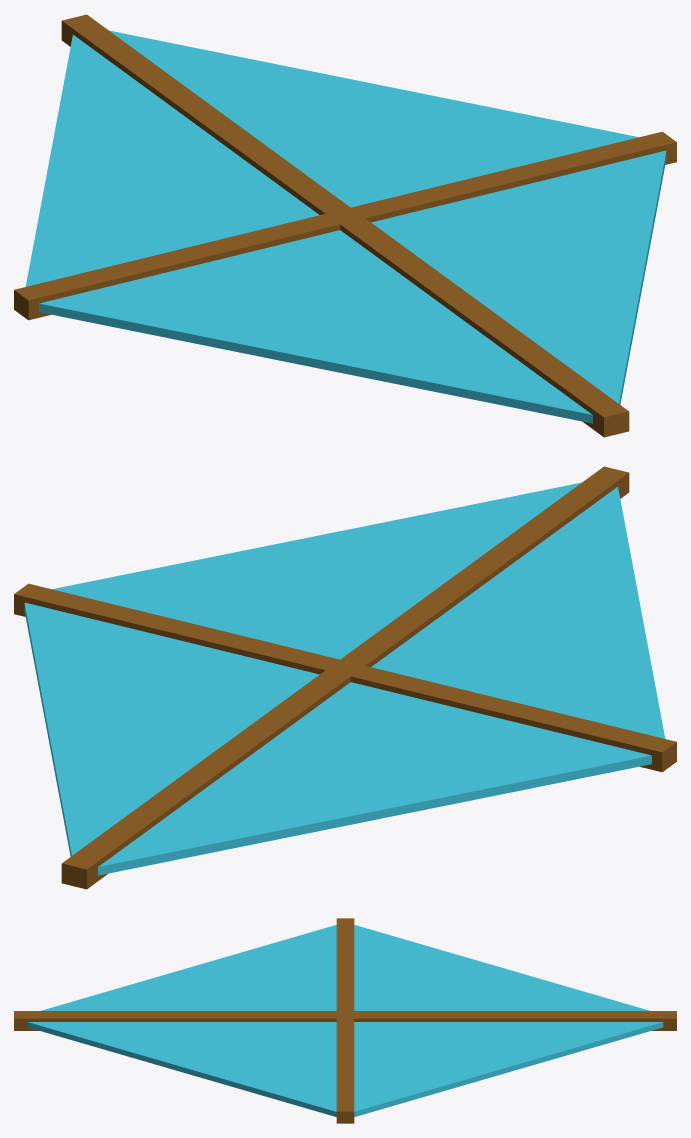
File: kite.glb
The picture shows the model from 3 angles, top to bottom: view 1: azimuth 30°, elevation 25°; view 2: azimuth 150°, elevation 25°; view 3: azimuth 270°, elevation 25°; orthographic projection. The views are drawn at different scales.
Parts seen in each view (by area): view 1: kite, kite.001; view 2: kite, kite.001; view 3: kite, kite.001.
Part boxes in pixels (x1=…): kite: x1=25, y1=30, x2=666, y2=423; kite.001: x1=14, y1=14, x2=676, y2=437; kite: x1=24, y1=482, x2=665, y2=875; kite.001: x1=14, y1=466, x2=676, y2=889; kite: x1=27, y1=925, x2=663, y2=1116; kite.001: x1=14, y1=918, x2=676, y2=1123.
Size of the model in its own units: 1.96 by 0.0575 by 2.84.
